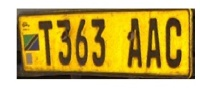T: (37, 18, 56, 67)
